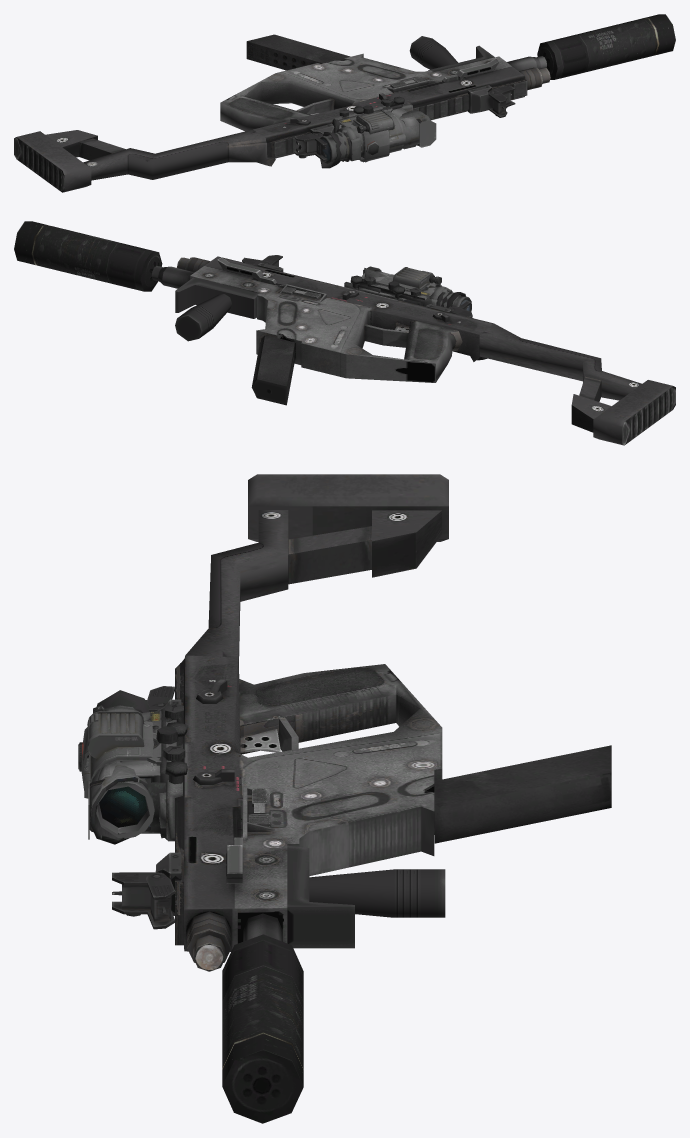
Rendered from weapon_kriss_red_tiger_LOD0.obj.
3 renders of one model, top to bottom at view 1: azimuth 30°, elevation 25°; view 2: azimuth 150°, elevation 25°; view 3: azimuth 270°, elevation 25°, orthographic. The views are drawn at different scales.
Visible parts, largest first — view 1: mtl_weapon_kriss_vector_red_tiger, mtl_weapon_suppressor_b, mtl_weapon_thermal_sight_2_red_tiger, mtl_weapon_acog_2_red_tiger, mtl_weapon_kriss_vector_foregrip, mtl_weapon_eotech_2_red_tiger, mtl_weapon_kriss_vector_sight_off, mtl_weapon_red_dot_sight_red_tiger, mtl_weapon_kriss_vector_sight_on; view 2: mtl_weapon_kriss_vector_red_tiger, mtl_weapon_suppressor_b, mtl_weapon_kriss_vector_foregrip, mtl_weapon_thermal_sight_2_red_tiger, mtl_weapon_acog_2_red_tiger, mtl_weapon_red_dot_sight_red_tiger, mtl_weapon_eotech_2_red_tiger; view 3: mtl_weapon_kriss_vector_red_tiger, mtl_weapon_suppressor_b, mtl_weapon_kriss_vector_foregrip, mtl_weapon_thermal_sight_2_red_tiger, mtl_weapon_acog_2_red_tiger, mtl_weapon_red_dot_sight_red_tiger, mtl_weapon_kriss_vector_sight_off, mtl_weapon_kriss_vector_sight_on, mtl_weapon_thermal_lens, mtl_weapon_eotech_2_red_tiger.
Part boxes in pixels (bbox=[...]): mtl_weapon_kriss_vector_red_tiger: bbox=[14, 34, 550, 192]; mtl_weapon_suppressor_b: bbox=[537, 14, 675, 79]; mtl_weapon_thermal_sight_2_red_tiger: bbox=[320, 105, 436, 168]; mtl_weapon_acog_2_red_tiger: bbox=[320, 96, 430, 163]; mtl_weapon_kriss_vector_foregrip: bbox=[409, 36, 494, 72]; mtl_weapon_eotech_2_red_tiger: bbox=[334, 106, 392, 162]; mtl_weapon_kriss_vector_sight_off: bbox=[294, 86, 515, 158]; mtl_weapon_red_dot_sight_red_tiger: bbox=[332, 98, 416, 149]; mtl_weapon_kriss_vector_sight_on: bbox=[313, 90, 507, 161]; mtl_weapon_kriss_vector_red_tiger: bbox=[151, 256, 675, 445]; mtl_weapon_suppressor_b: bbox=[14, 221, 162, 291]; mtl_weapon_kriss_vector_foregrip: bbox=[175, 277, 258, 341]; mtl_weapon_thermal_sight_2_red_tiger: bbox=[361, 266, 465, 307]; mtl_weapon_acog_2_red_tiger: bbox=[344, 268, 471, 311]; mtl_weapon_red_dot_sight_red_tiger: bbox=[357, 270, 432, 306]; mtl_weapon_eotech_2_red_tiger: bbox=[365, 281, 441, 305]; mtl_weapon_kriss_vector_red_tiger: bbox=[155, 474, 611, 971]; mtl_weapon_suppressor_b: bbox=[222, 934, 303, 1123]; mtl_weapon_kriss_vector_foregrip: bbox=[287, 845, 445, 948]; mtl_weapon_thermal_sight_2_red_tiger: bbox=[84, 690, 178, 839]; mtl_weapon_acog_2_red_tiger: bbox=[78, 705, 187, 844]; mtl_weapon_red_dot_sight_red_tiger: bbox=[98, 703, 185, 839]; mtl_weapon_kriss_vector_sight_off: bbox=[146, 686, 175, 929]; mtl_weapon_kriss_vector_sight_on: bbox=[112, 700, 167, 916]; mtl_weapon_thermal_lens: bbox=[99, 786, 147, 827]; mtl_weapon_eotech_2_red_tiger: bbox=[81, 711, 184, 826].
Bounding box in the file's own units: 77.86 × 5.71 × 29.7.
